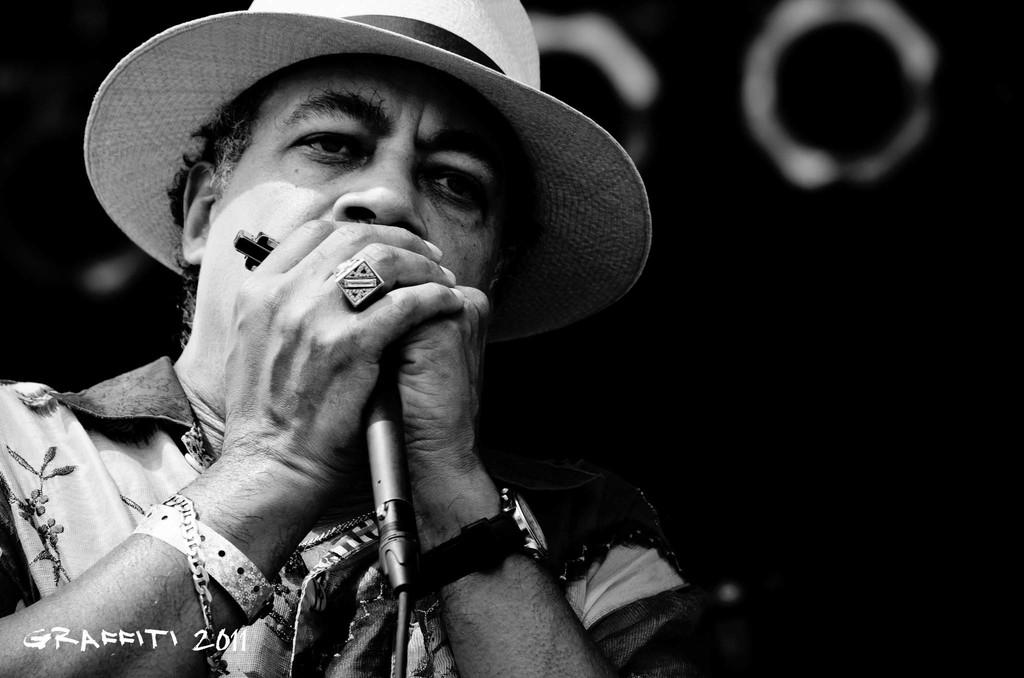Hat: (84, 0, 649, 349)
